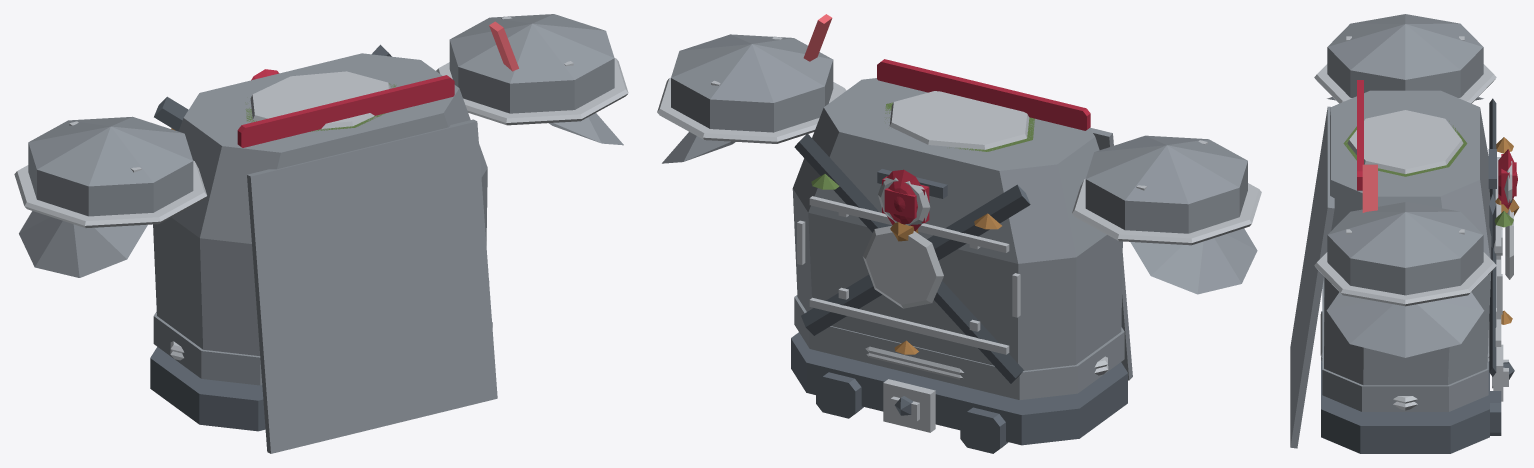
Rendered from armor_dualblade_s4.fbx.
The picture shows the model from 3 angles, left to right: view 1: azimuth 30°, elevation 25°; view 2: azimuth 150°, elevation 25°; view 3: azimuth 270°, elevation 25°; orthographic projection. The views are drawn at different scales.
Visible parts, largest first — view 1: Chest_Body, Shoulder_L_Body, Shoulder_R_Body, Chest_Inner, Chest_CoreGem_An, Chest_Trim, Shoulder_L_Trim, Shoulder_R_Trim, Float_Float; view 2: Chest_Body, Chest_Inner, Chest_Trim, Shoulder_L_Body, Shoulder_R_Body, Chest_CoreGem_An, Shoulder_L_Trim, Shoulder_R_Trim, Chest_CoreGem_Re, Chest_Trim_Ep, Chest_Attach, Float_Float; view 3: Chest_Body, Shoulder_R_Body, Shoulder_L_Body, Chest_Inner, Chest_Trim, Shoulder_R_Trim, Shoulder_L_Trim, Chest_CoreGem_An, Float_Float, Chest_Attach, Chest_CoreGem_Re, Chest_Trim_Ep (+1 smaller).
Boxes of the visible parts, <box> form: Chest_Body: <box>153,53,497,453</box>; Shoulder_L_Body: <box>19,116,193,277</box>; Shoulder_R_Body: <box>449,14,623,145</box>; Chest_Inner: <box>150,44,492,431</box>; Chest_CoreGem_An: <box>237,75,454,147</box>; Chest_Trim: <box>170,71,390,360</box>; Shoulder_L_Trim: <box>14,121,206,227</box>; Shoulder_R_Trim: <box>436,16,628,125</box>; Float_Float: <box>489,21,518,71</box>; Chest_Body: <box>792,78,1132,399</box>; Chest_Inner: <box>791,133,1127,453</box>; Chest_Trim: <box>797,91,1108,432</box>; Shoulder_L_Body: <box>1085,135,1257,294</box>; Shoulder_R_Body: <box>662,34,833,163</box>; Chest_CoreGem_An: <box>877,59,1090,223</box>; Shoulder_L_Trim: <box>1072,140,1261,245</box>; Shoulder_R_Trim: <box>657,36,846,143</box>; Chest_CoreGem_Re: <box>887,169,921,230</box>; Chest_Trim_Ep: <box>865,346,1107,374</box>; Chest_Attach: <box>811,102,1034,189</box>; Float_Float: <box>803,14,832,61</box>; Chest_Body: <box>1290,90,1491,448</box>; Shoulder_R_Body: <box>1326,202,1484,357</box>; Shoulder_L_Body: <box>1327,14,1483,100</box>; Chest_Inner: <box>1321,98,1514,453</box>; Chest_Trim: <box>1321,110,1513,410</box>; Shoulder_R_Trim: <box>1314,229,1496,306</box>; Shoulder_L_Trim: <box>1314,36,1496,103</box>; Chest_CoreGem_An: <box>1357,80,1516,204</box>; Float_Float: <box>1362,164,1377,212</box>; Chest_Attach: <box>1343,121,1513,227</box>; Chest_CoreGem_Re: <box>1498,149,1517,209</box>; Chest_Trim_Ep: <box>1320,312,1489,403</box>.
Bounding box in the file's own units: 446 × 238 × 163.
